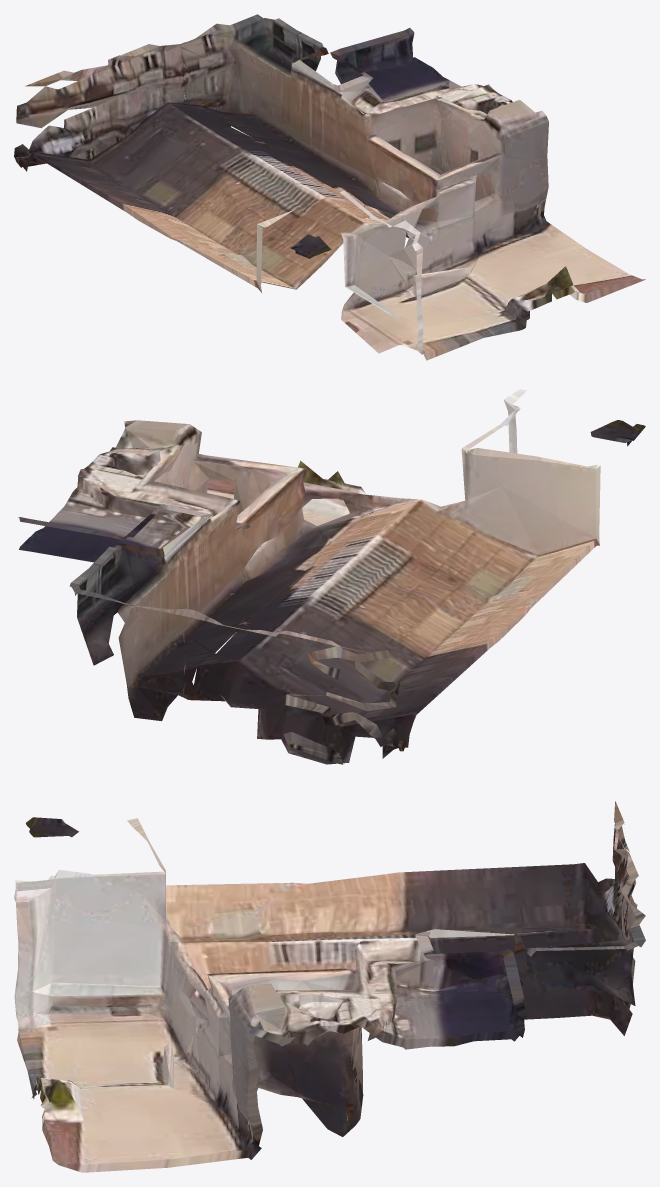
The picture shows the model from 3 angles, top to bottom: view 1: azimuth 30°, elevation 25°; view 2: azimuth 150°, elevation 25°; view 3: azimuth 270°, elevation 25°; orthographic projection. The views are drawn at different scales.
Parts seen in each view (by area): view 1: Mesh_0; view 2: Mesh_0; view 3: Mesh_0.
Boxes of the visible parts, x1=… form: Mesh_0: x1=14, y1=14, x2=645, y2=360; Mesh_0: x1=18, y1=389, x2=645, y2=764; Mesh_0: x1=14, y1=801, x2=645, y2=1172.
Size of the model in its own units: 33.34 by 11.93 by 38.87.
Materials: 1 (1 with a texture image).
